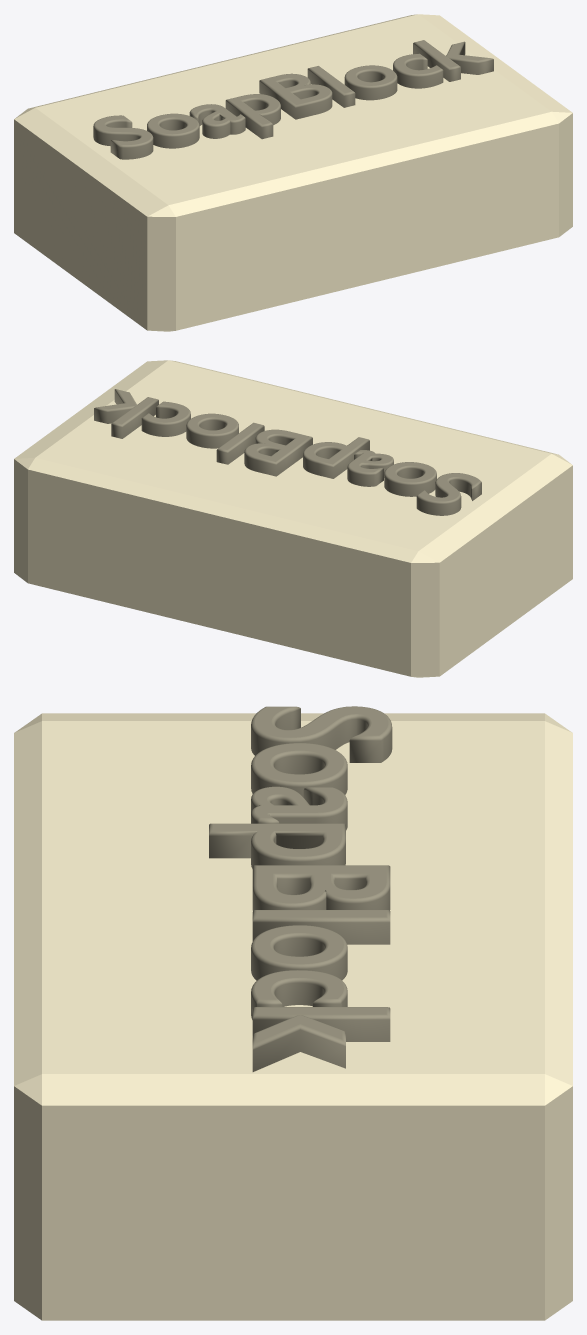
Rendered from PaleSoap.fbx.
The picture shows the model from 3 angles, top to bottom: view 1: azimuth 30°, elevation 25°; view 2: azimuth 150°, elevation 25°; view 3: azimuth 270°, elevation 25°; orthographic projection. The views are drawn at different scales.
Parts seen in each view (by area): view 1: Cube, Text; view 2: Cube, Text; view 3: Cube, Text.
Boxes of the visible parts, box(x1,y1,x2,y2) form: Cube: box(14, 14, 572, 331); Text: box(93, 40, 493, 159); Cube: box(14, 360, 572, 677); Text: box(94, 389, 481, 515); Cube: box(14, 713, 572, 1320); Text: box(209, 706, 392, 1071).
Size of the model in its own units: 487 by 153 by 293.
